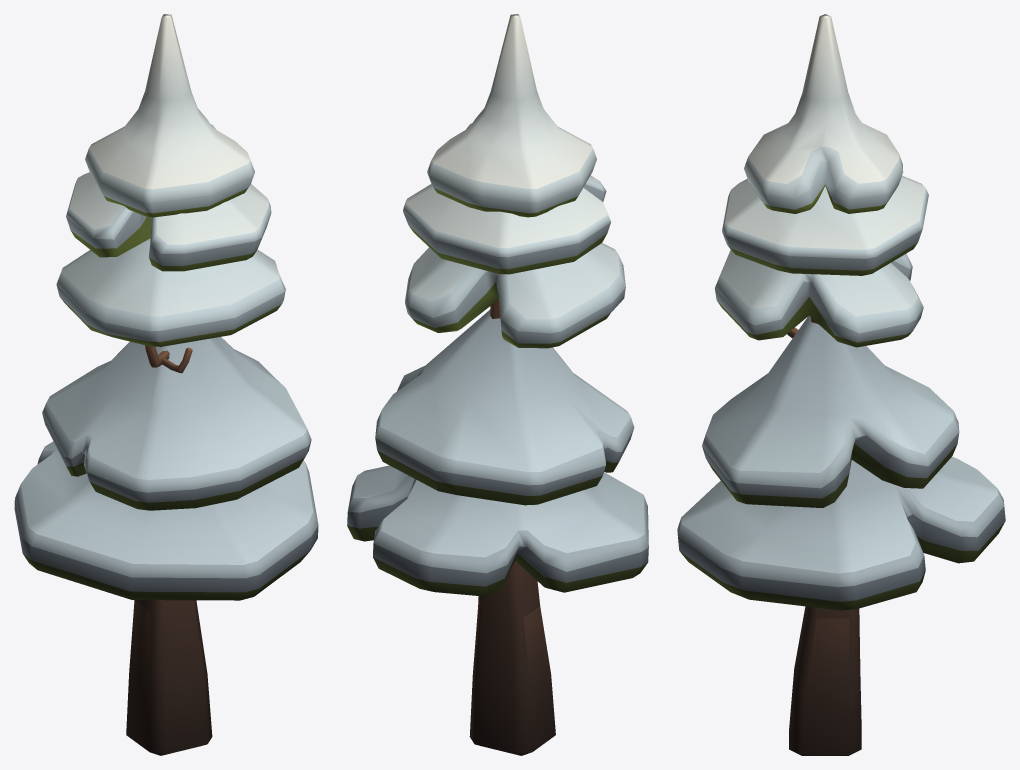
Rendered from pine_tree_col1_06_snow.fbx.
3 renders of one model, left to right at view 1: azimuth 30°, elevation 25°; view 2: azimuth 150°, elevation 25°; view 3: azimuth 270°, elevation 25°, orthographic.
Visible parts, largest first — view 1: pine_tree_col1_06_snow; view 2: pine_tree_col1_06_snow; view 3: pine_tree_col1_06_snow.
Boxes of the visible parts, left/top/right/bottom form: pine_tree_col1_06_snow: left=14, top=14, right=318, bottom=755; pine_tree_col1_06_snow: left=347, top=14, right=648, bottom=755; pine_tree_col1_06_snow: left=677, top=14, right=1005, bottom=755.
Size of the model in its own units: 432 by 1059 by 433.
1 material, 1 textured.
